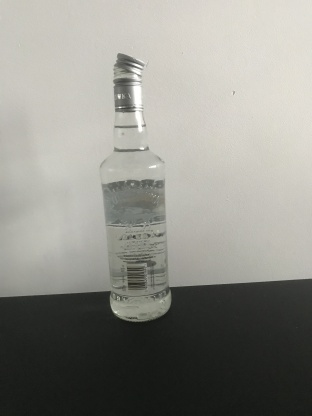nakretka: (111, 50, 146, 112)
